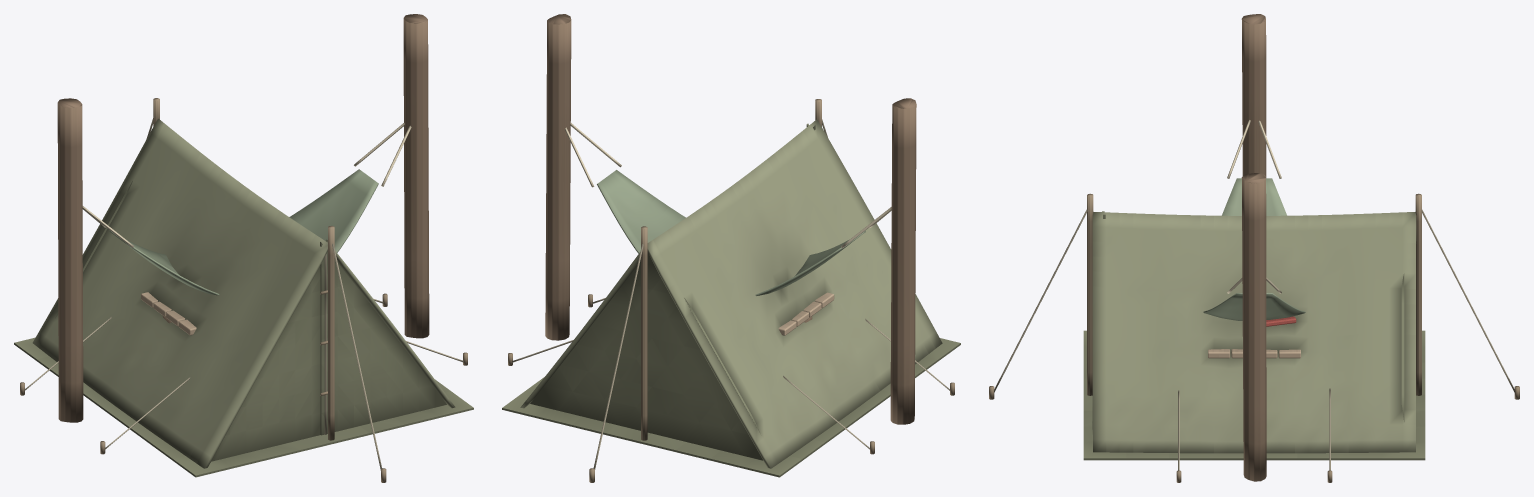
The model's file is camp_rustic.glb.
3 views of the same model, side by side, from view 1: azimuth 30°, elevation 25°; view 2: azimuth 150°, elevation 25°; view 3: azimuth 270°, elevation 25° (orthographic). The views are drawn at different scales.
Parts seen in each view (by area): view 1: Tent, Hammock, Table; view 2: Tent, Hammock, Table; view 3: Tent, Hammock, Table.
Part boxes in pixels (x1,y1,x2,y2): Tent: (14, 98, 473, 482); Hammock: (57, 14, 429, 422); Table: (141, 292, 196, 335); Tent: (502, 99, 960, 482); Hammock: (545, 14, 916, 424); Table: (778, 292, 834, 335); Tent: (989, 193, 1519, 482); Hammock: (1203, 14, 1305, 481); Table: (1208, 349, 1300, 358).
Bounding box in the file's own units: 3.04 × 2.73 × 4.04.
